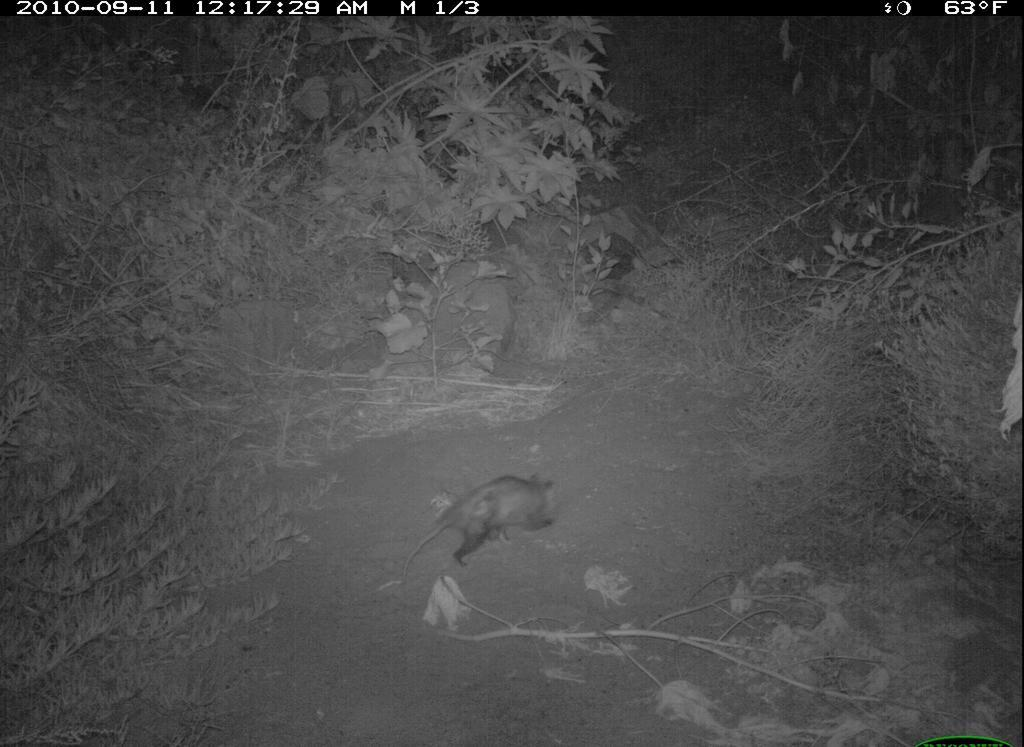opossum: (374, 469, 574, 594)
